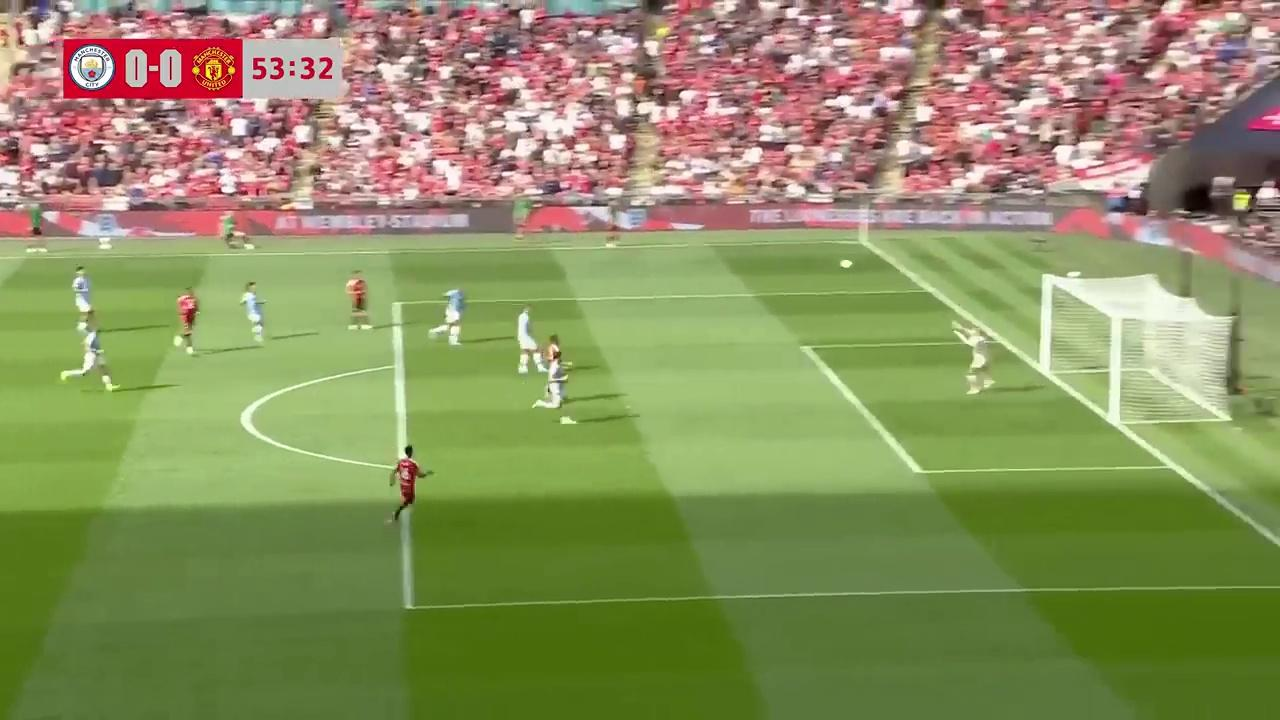ball: (837, 256, 855, 271)
player: (384, 443, 434, 523), (533, 353, 577, 428), (70, 322, 115, 390), (427, 286, 465, 346), (541, 341, 570, 410), (964, 330, 994, 394), (239, 280, 266, 343), (516, 306, 541, 374), (345, 271, 372, 330), (175, 289, 199, 353), (72, 265, 92, 330)
